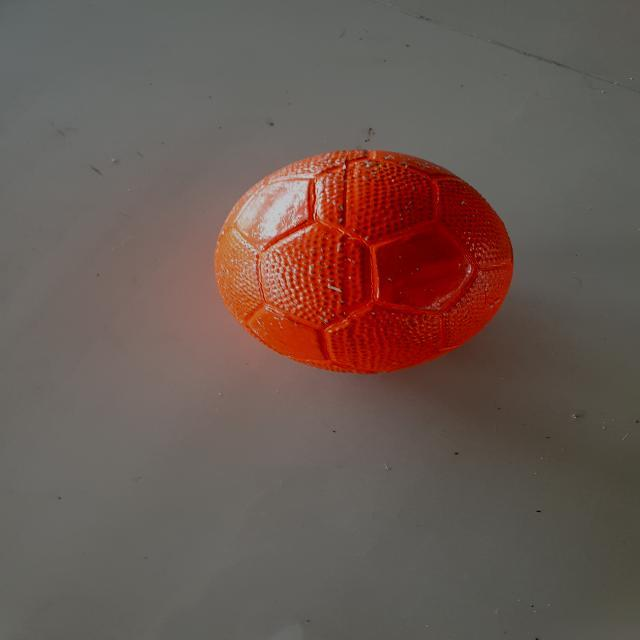bola: (192, 146, 524, 376)
